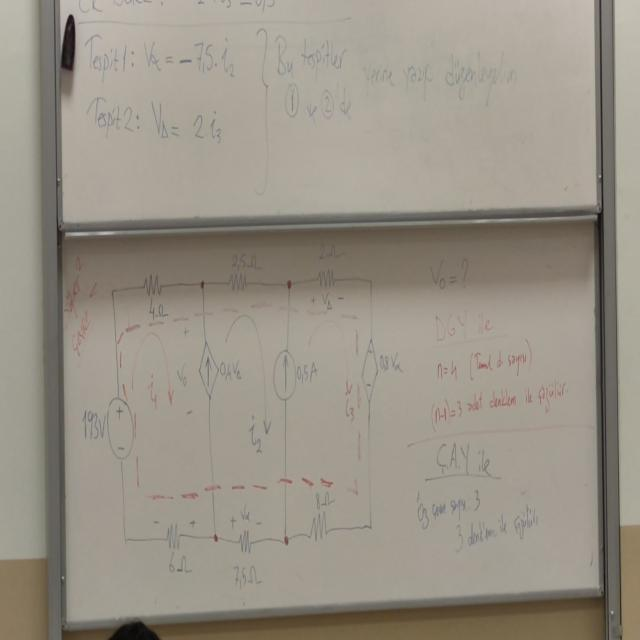image: (74, 243, 412, 593)
math: (141, 20, 239, 90), (150, 97, 236, 164), (421, 249, 479, 299)
text: (271, 26, 521, 131), (426, 342, 575, 428), (415, 484, 542, 554), (429, 295, 503, 348), (433, 433, 503, 482)
